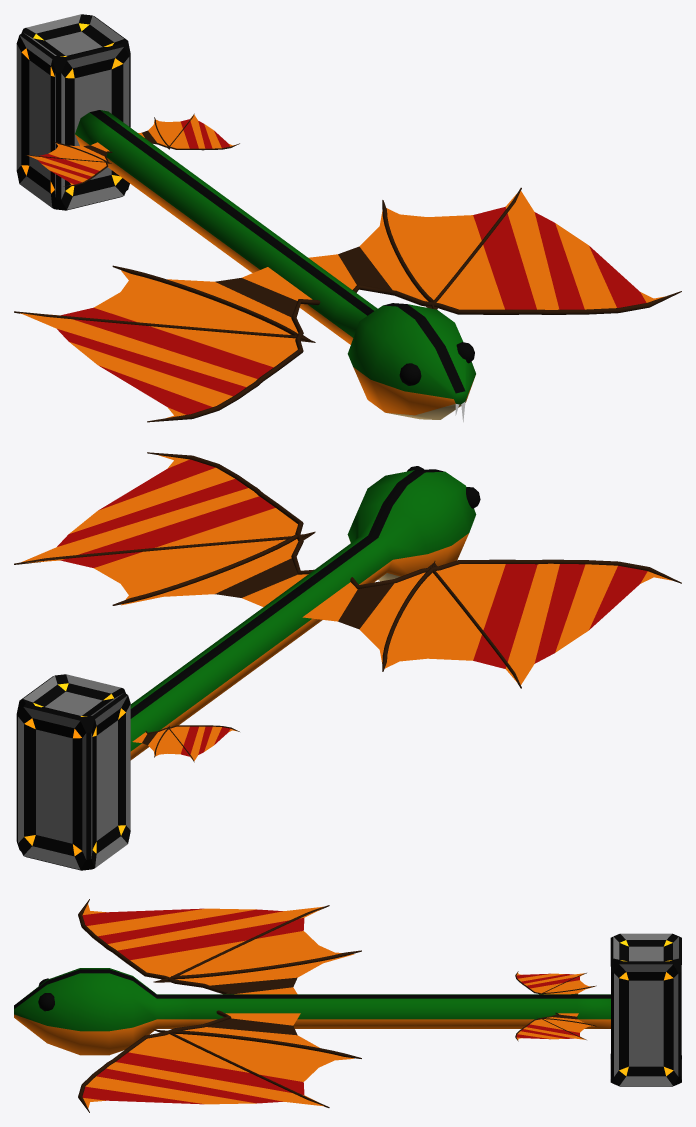
File: flying hammer snake.fbx
3 views of the same model, one above another, from view 1: azimuth 30°, elevation 25°; view 2: azimuth 150°, elevation 25°; view 3: azimuth 270°, elevation 25° (orthographic). The views are drawn at different scales.
Parts seen in each view (by area): view 1: Plane, Cylinder, Cube, Plane.001, Icosphere; view 2: Plane, Cylinder, Cube, Plane.001; view 3: Plane, Cylinder, Cube, Plane.001.
Part boxes in pixels (x1,y1,x2,y2): Plane: [14, 187, 681, 422]; Cylinder: [75, 110, 475, 419]; Cube: [16, 14, 130, 210]; Plane.001: [25, 113, 239, 186]; Icosphere: [399, 342, 474, 385]; Plane: [14, 452, 681, 688]; Cylinder: [130, 469, 476, 760]; Cube: [16, 674, 130, 870]; Plane.001: [132, 725, 239, 762]; Plane: [78, 899, 361, 1112]; Cylinder: [14, 968, 610, 1055]; Cube: [610, 933, 681, 1086]; Plane.001: [515, 971, 596, 1041].
Bounding box in the file's own units: 1361 × 373 × 1803.
